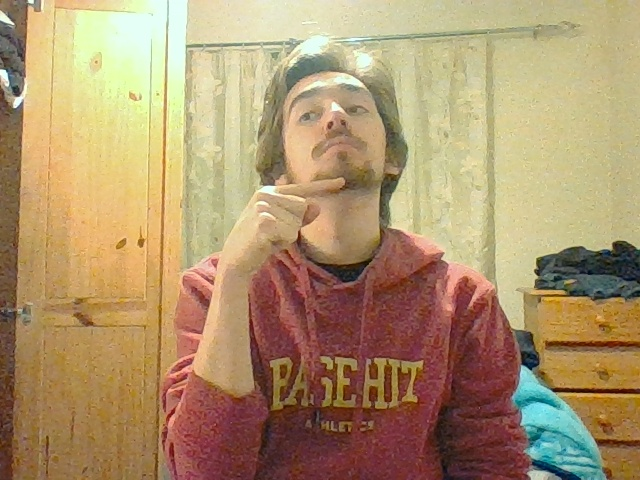son: (250, 174, 348, 242)
